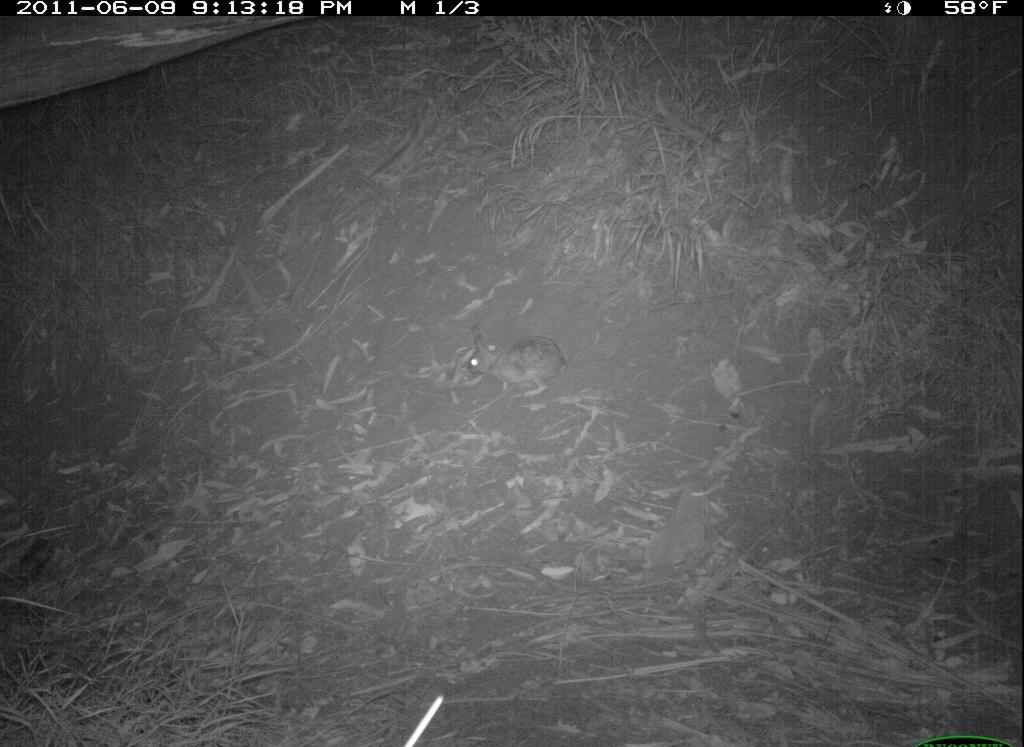rabbit: (459, 319, 575, 404)
